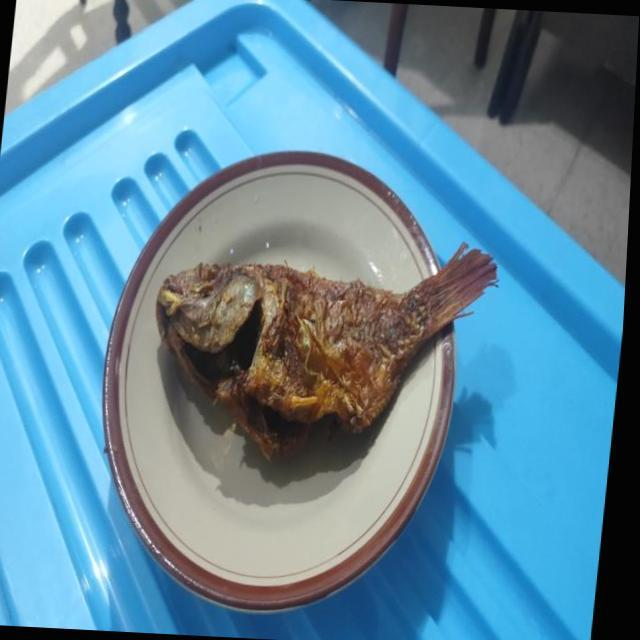ikan_mujair: (157, 244, 498, 448)
